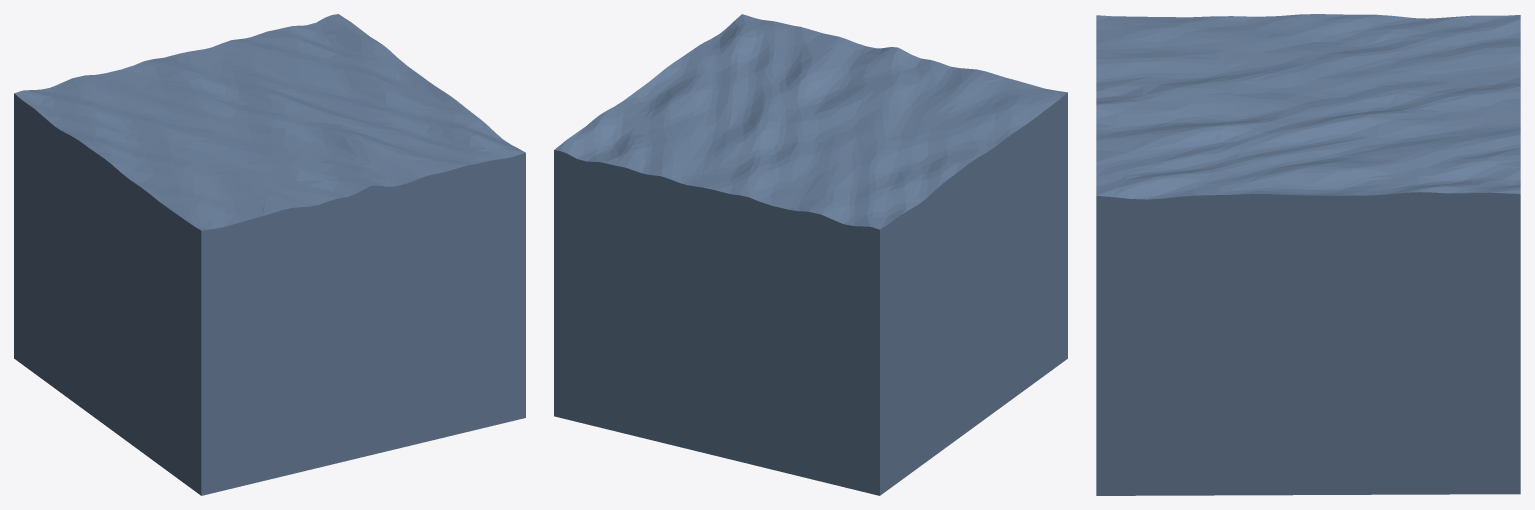
The model's file is BLOCK_Water.fbx.
3 renders of one model, left to right at view 1: azimuth 30°, elevation 25°; view 2: azimuth 150°, elevation 25°; view 3: azimuth 270°, elevation 25°, orthographic. The views are drawn at different scales.
Visible parts, largest first — view 1: Water; view 2: Water; view 3: Water.
Boxes of the visible parts, bbox=[...] form: Water: bbox=[14, 14, 525, 495]; Water: bbox=[554, 14, 1067, 495]; Water: bbox=[1096, 14, 1520, 495].
Size of the model in its own units: 100 by 79.51 by 100.
